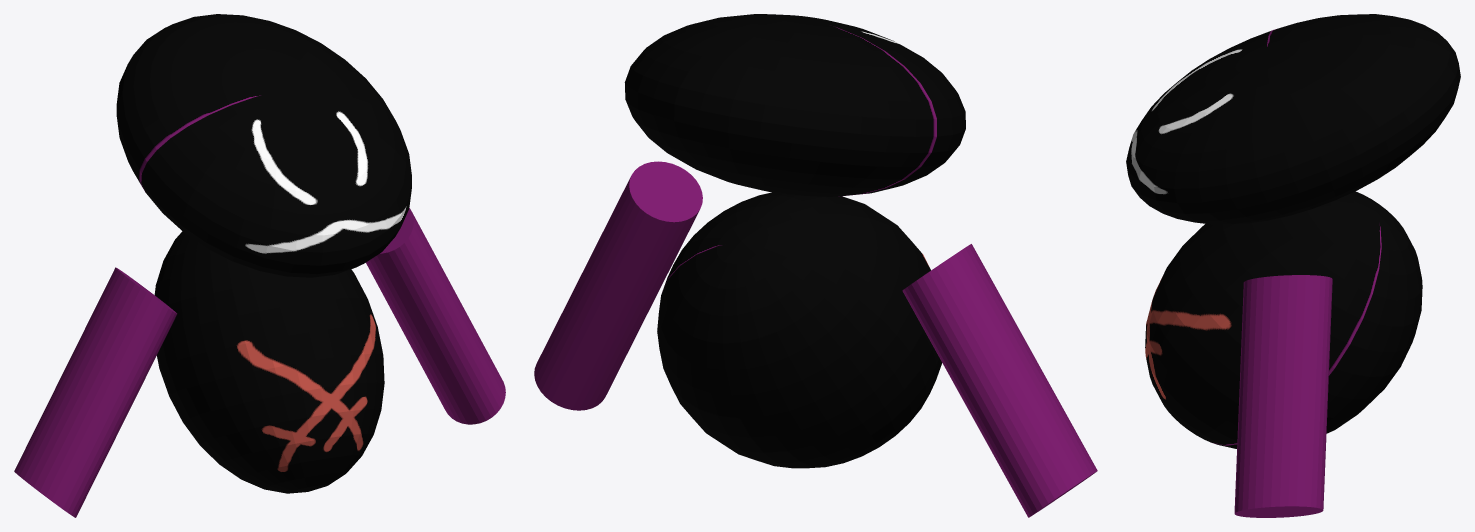
File: enemy.obj
3 views of the same model, side by side, from view 1: azimuth 30°, elevation 25°; view 2: azimuth 150°, elevation 25°; view 3: azimuth 270°, elevation 25° (orthographic). The views are drawn at different scales.
Visible parts, largest first — view 1: 球; view 2: 球; view 3: 球.
Part boxes in pixels (x1,y1,x2,y2): 球: (14, 14, 505, 517); 球: (534, 14, 1097, 517); 球: (1126, 14, 1460, 517).
Size of the model in its own units: 1.11 by 0.911 by 0.6809.
